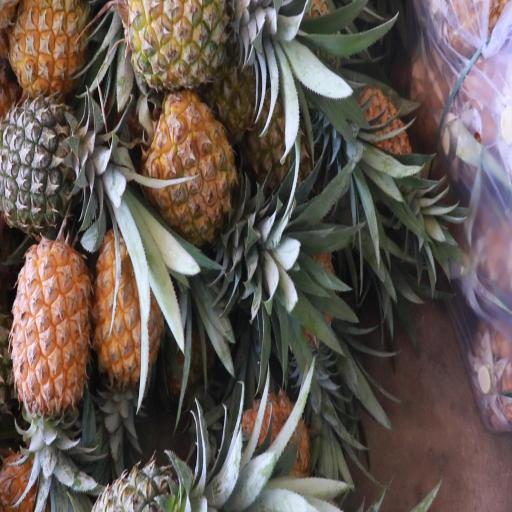Pineapple - v8 v1: (146, 98, 263, 238), (18, 245, 90, 459), (91, 236, 163, 399), (126, 1, 254, 88)
